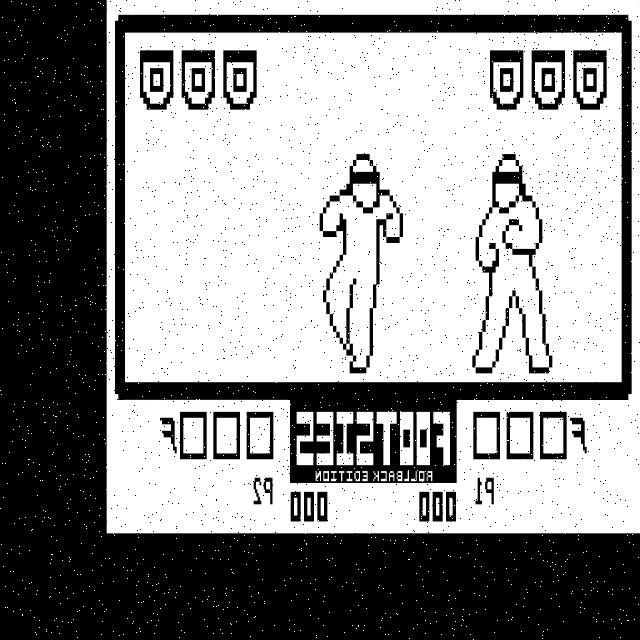Idle: (463, 148, 566, 378)
Special1: (318, 150, 406, 375)
